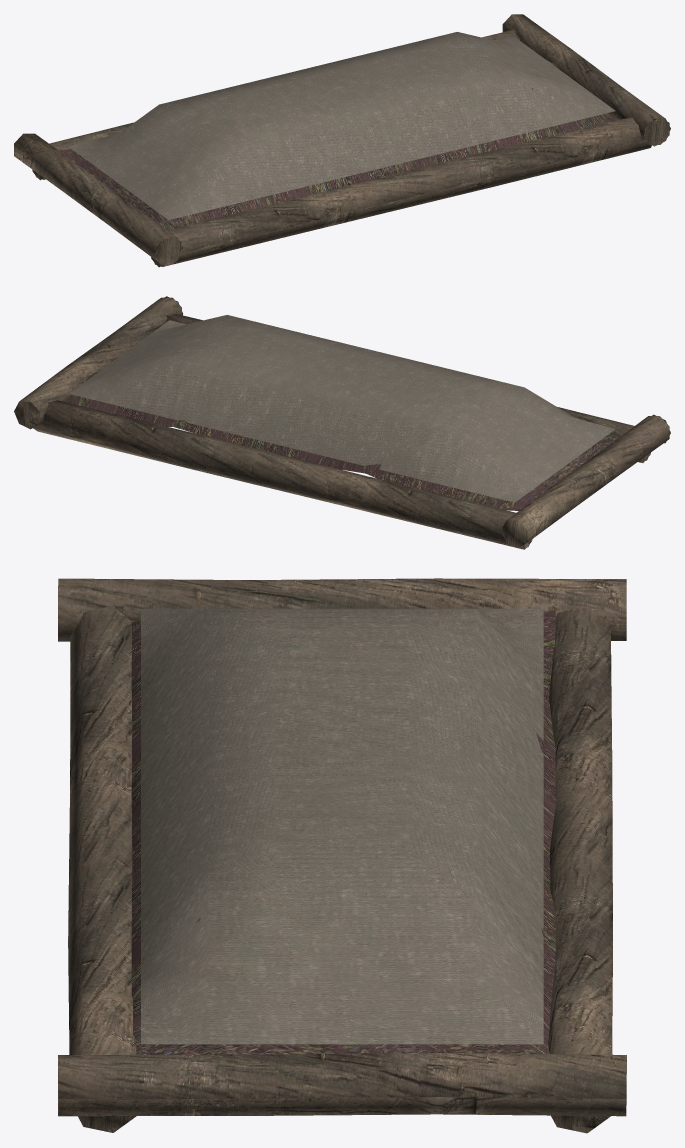
The model's file is kit_sr_heather_bed_p.glb.
3 renders of one model, top to bottom at view 1: azimuth 30°, elevation 25°; view 2: azimuth 150°, elevation 25°; view 3: azimuth 270°, elevation 25°, orthographic. The views are drawn at different scales.
Visible parts, largest first — view 1: kit_sr_heather_bed_p; view 2: kit_sr_heather_bed_p; view 3: kit_sr_heather_bed_p.
Boxes of the visible parts, x1=… form: kit_sr_heather_bed_p: x1=14, y1=14, x2=670, y2=267; kit_sr_heather_bed_p: x1=14, y1=296, x2=670, y2=549; kit_sr_heather_bed_p: x1=58, y1=578, x2=626, y2=1133.
Size of the model in its own units: 2.01 by 0.2891 by 0.9608.
1 material, 1 textured.
